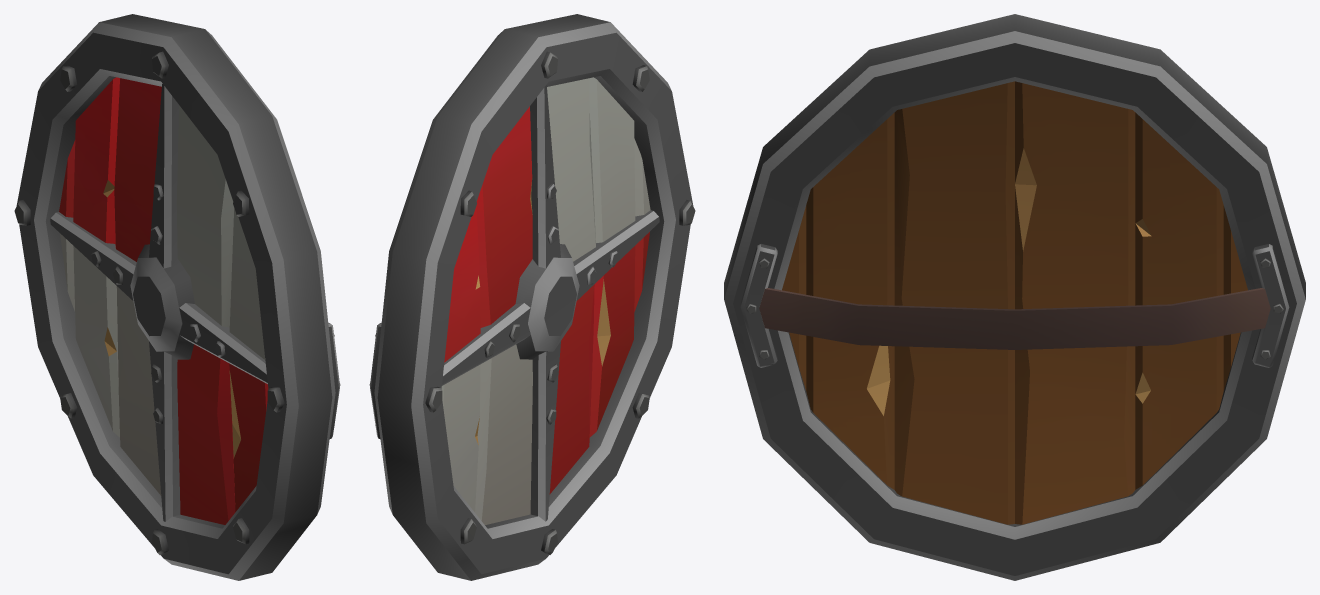
Rendered from Shield_2_A.glb.
The picture shows the model from 3 angles, left to right: view 1: azimuth 30°, elevation 25°; view 2: azimuth 150°, elevation 25°; view 3: azimuth 270°, elevation 25°; orthographic projection. The views are drawn at different scales.
Visible parts, largest first — view 1: Shield_2_A; view 2: Shield_2_A; view 3: Shield_2_A.
Part boxes in pixels (left/top/right/bottom): Shield_2_A: left=14, top=14, right=340, bottom=580; Shield_2_A: left=369, top=14, right=695, bottom=580; Shield_2_A: left=724, top=14, right=1305, bottom=580.
Size of the model in its own units: 0.1518 by 0.7075 by 0.6784.
Materials: 2 (2 with a texture image).
